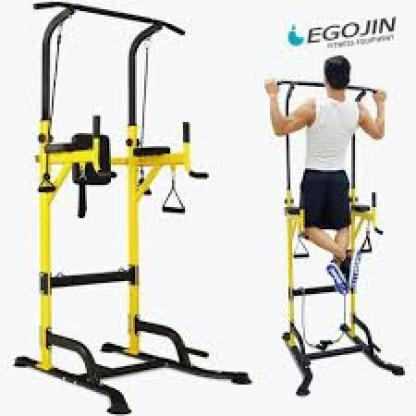chinning dipping: (14, 3, 252, 414), (262, 54, 406, 395)
